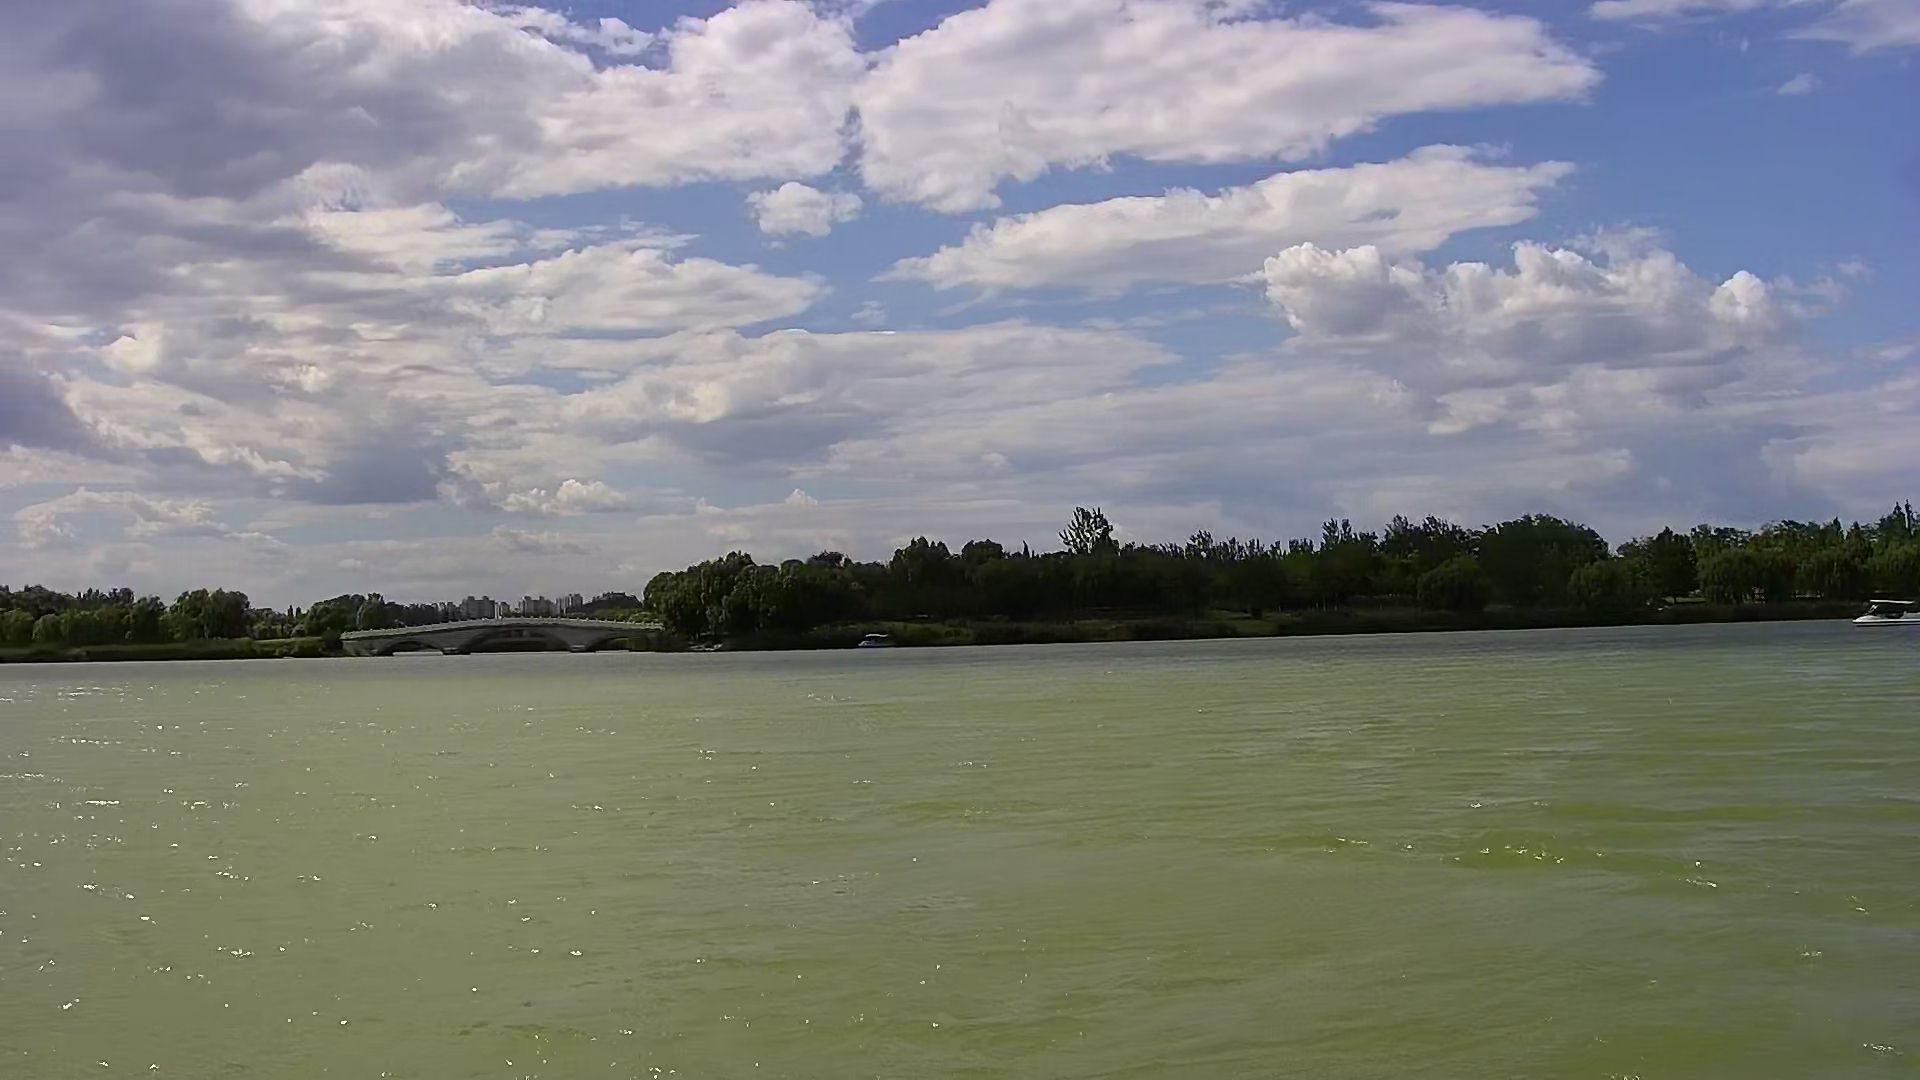boat: (1847, 593, 1920, 626), (853, 632, 907, 651)
bridge: (340, 615, 667, 654)
